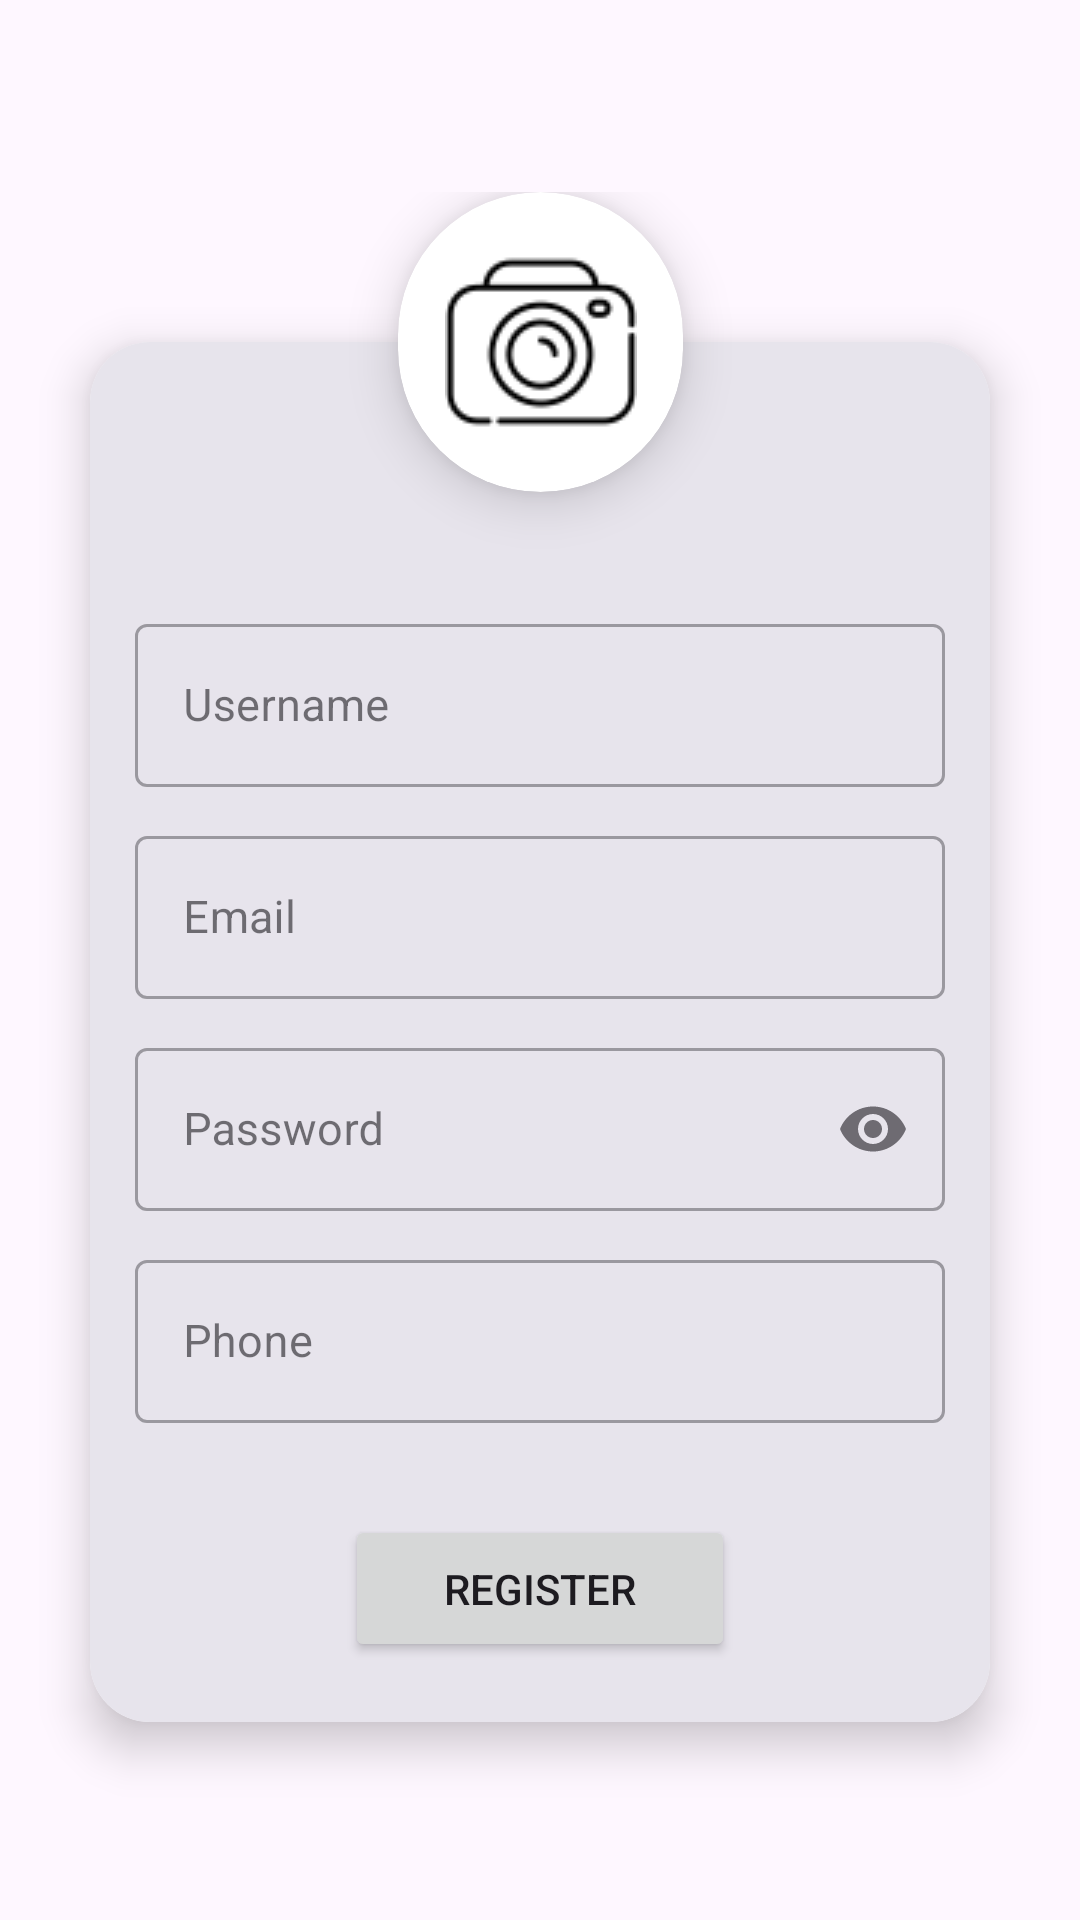

Point at icon controls on the screen. Image size 1080 × 1920, points as (x,y).
camera: (540,342)
